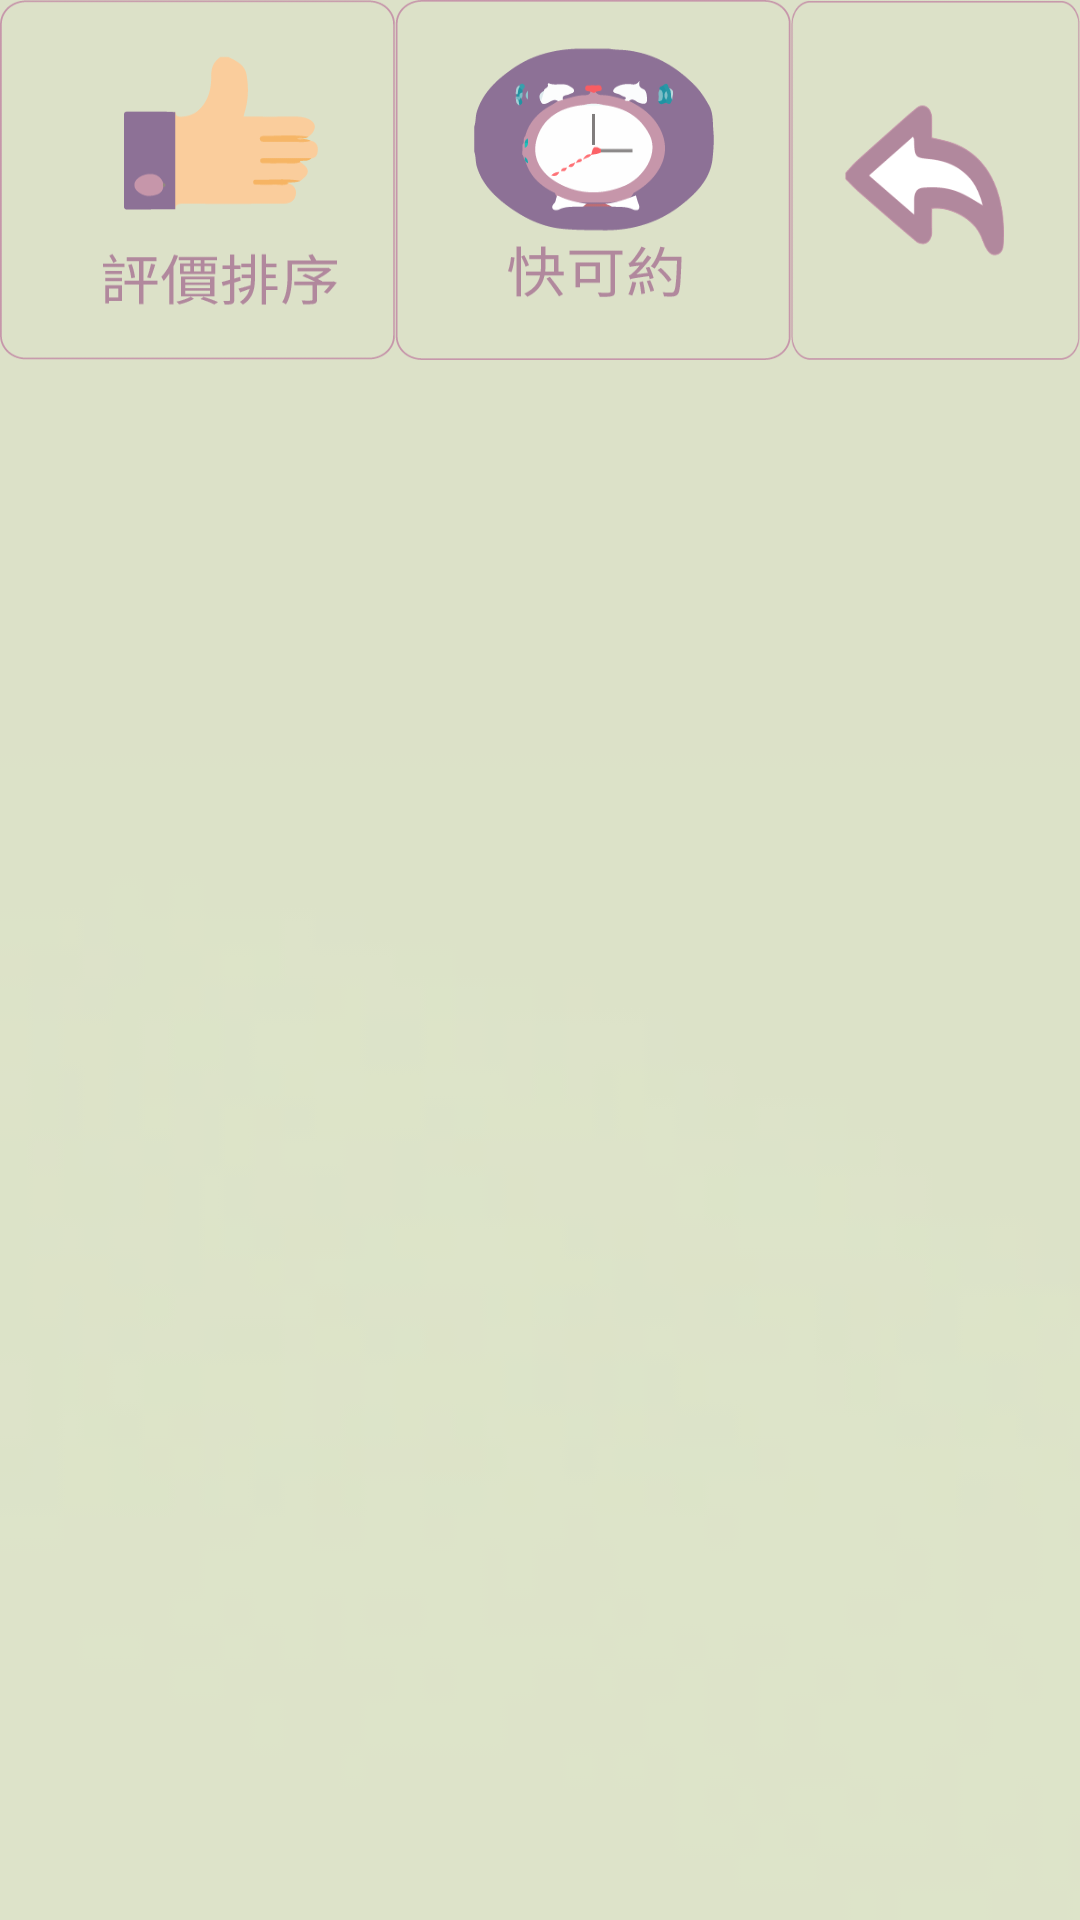

Screen size 1080px×1920px. Icon name, then its box in pixels as (x1, y1, x2, y2):
blackpagemdpi: (845, 105, 1004, 255)
